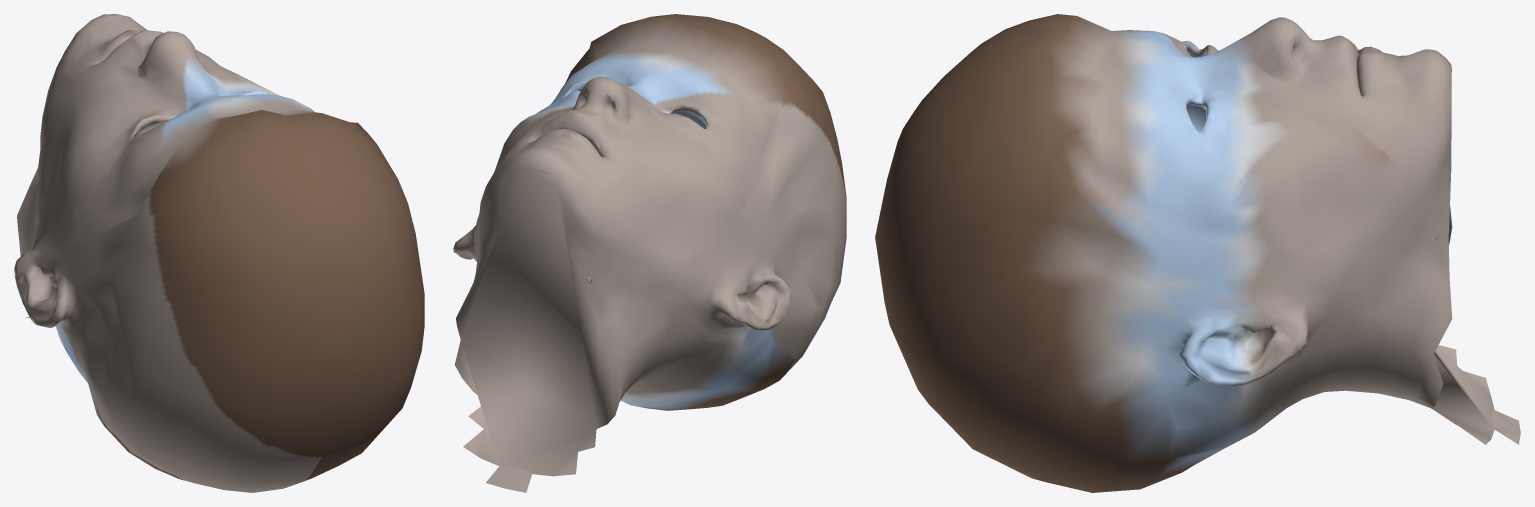
File: primm_head_authored.glb
3 renders of one model, left to right at view 1: azimuth 30°, elevation 25°; view 2: azimuth 150°, elevation 25°; view 3: azimuth 270°, elevation 25°, orthographic. The views are drawn at different scales.
Visible parts, largest first — view 1: Human; view 2: Human; view 3: Human.
Boxes of the visible parts, x1,y1,x2,y2 form: Human: (14, 14, 424, 492); Human: (453, 14, 846, 492); Human: (875, 14, 1520, 492).
Size of the model in its own units: 0.203 by 0.2347 by 0.3012.
Materials: 1 (1 with a texture image).
